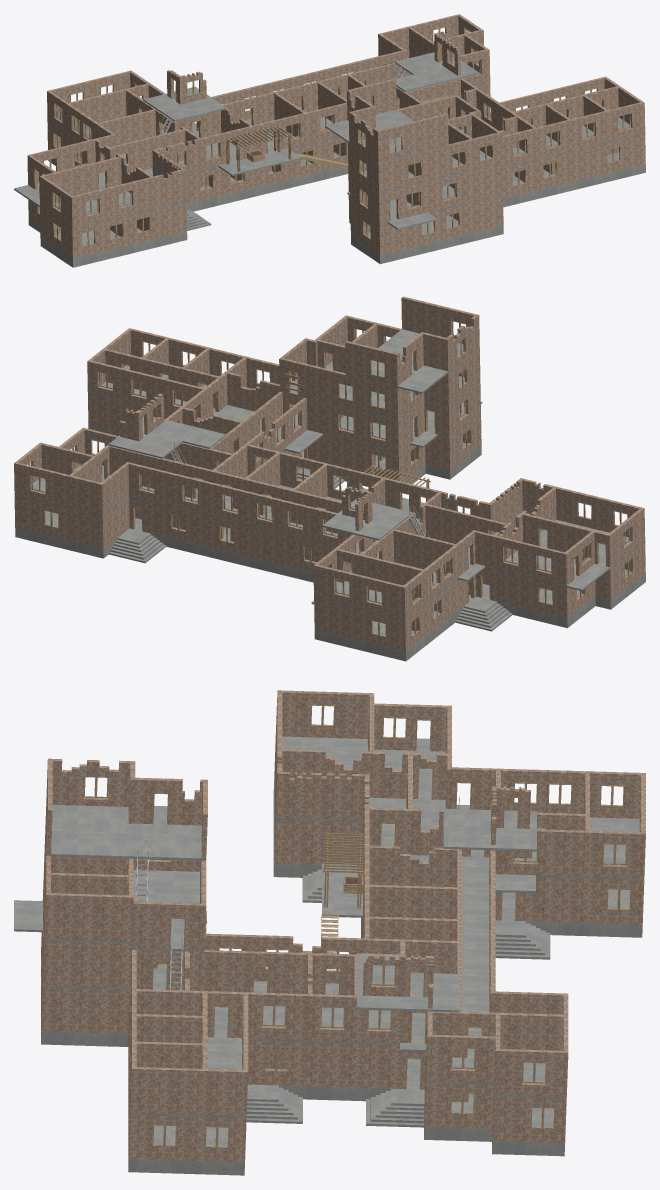
Rendered from env_construction_school.glb.
3 views of the same model, one above another, from view 1: azimuth 30°, elevation 25°; view 2: azimuth 150°, elevation 25°; view 3: azimuth 270°, elevation 25° (orthographic). The views are drawn at different scales.
Size of the model in its own units: 56 by 14.55 by 39.07.
Materials: 9 (7 with a texture image).
